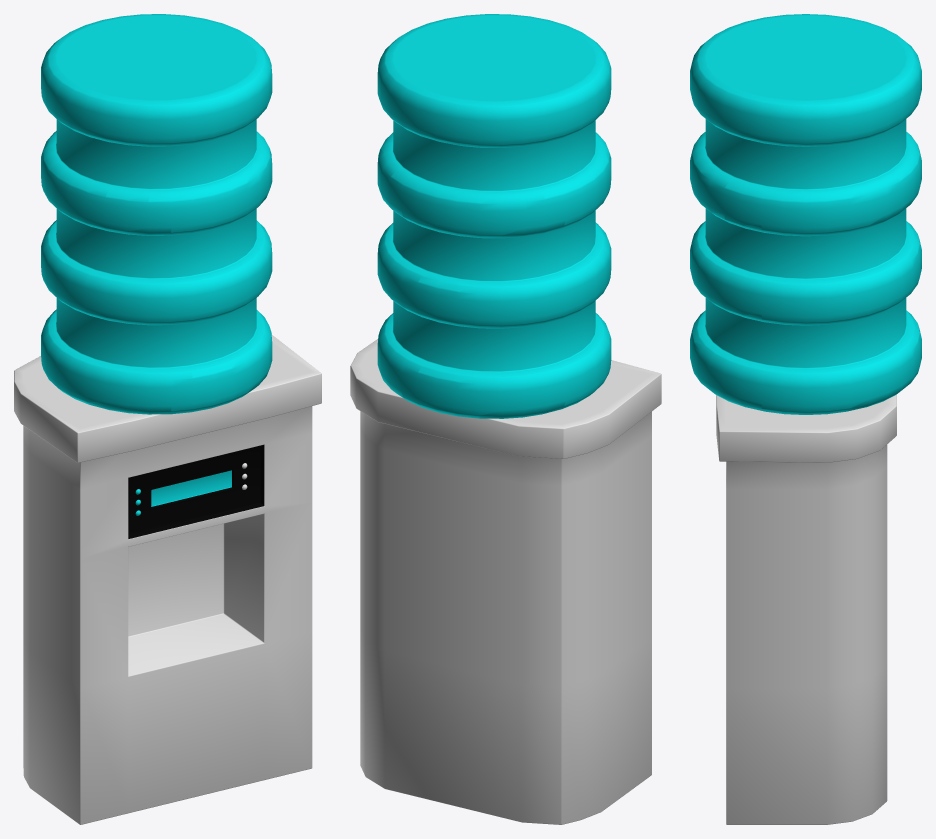
File: WaterTank.fbx
The picture shows the model from 3 angles, left to right: view 1: azimuth 30°, elevation 25°; view 2: azimuth 150°, elevation 25°; view 3: azimuth 270°, elevation 25°; orthographic projection.
Visible parts, largest first — view 1: WaterTank; view 2: WaterTank; view 3: WaterTank.
Part boxes in pixels (x1=…): WaterTank: x1=14, y1=14, x2=321, y2=824; WaterTank: x1=350, y1=14, x2=661, y2=824; WaterTank: x1=690, y1=14, x2=921, y2=824.
Size of the model in its own units: 171 by 138 by 466.
